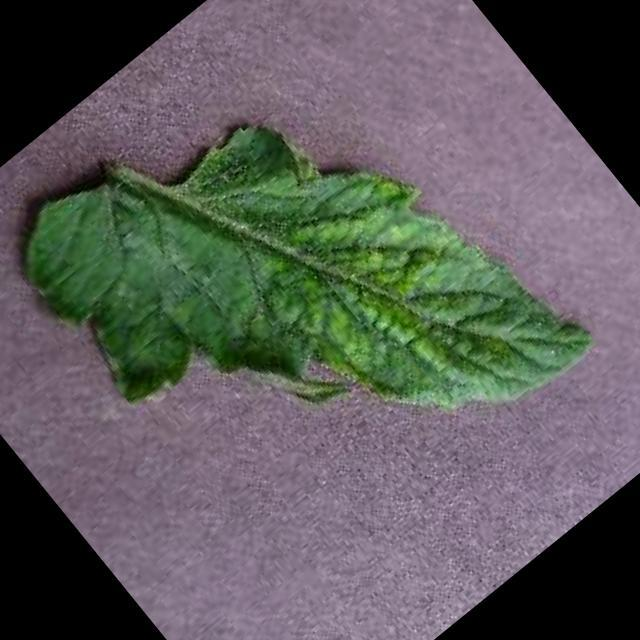Tomato mosaic virus leaf: (0, 0, 605, 606)
